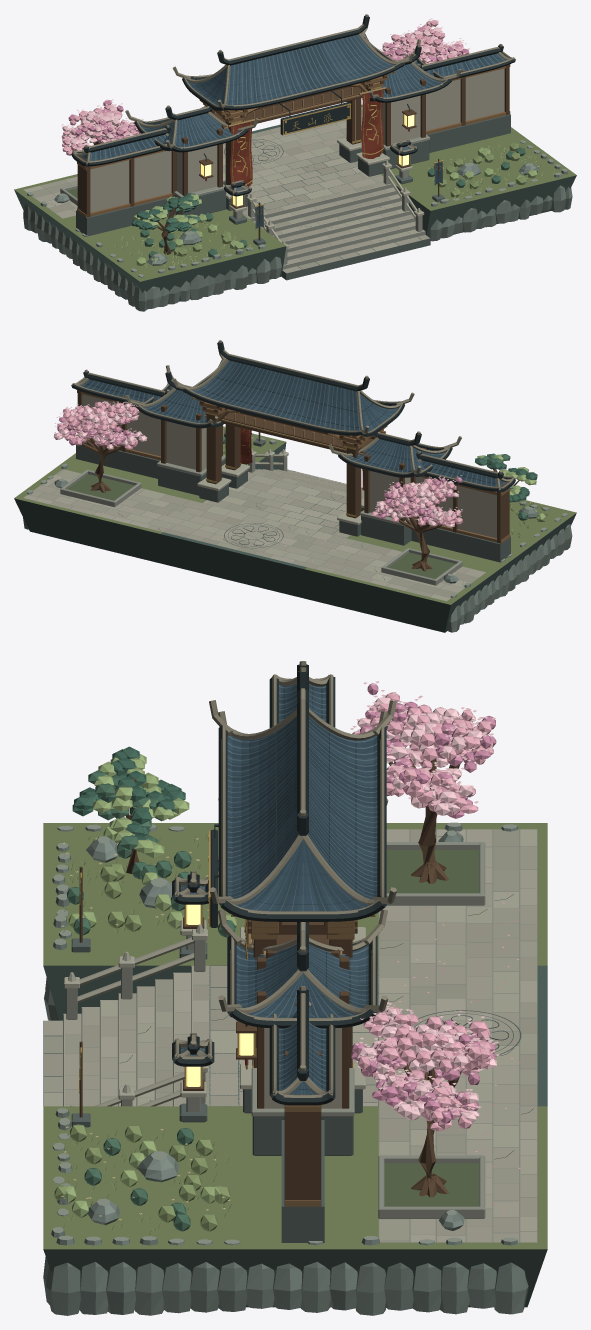
File: gate.glb
3 views of the same model, one above another, from view 1: azimuth 30°, elevation 25°; view 2: azimuth 150°, elevation 25°; view 3: azimuth 270°, elevation 25° (orthographic). The views are drawn at different scales.
Parts seen in each view (by area): view 1: terrain_landform_matte, wall_west_architecture_matte, wall_east_architecture_matte, gate_roof_architecture_matte, rocks_nature_matte, stairs_landform_matte, paving_landform_matte, gate_frame_architecture_matte, garden_nature_foliage, tree_west_nature_blossom, tree_east_nature_blossom, tree_front_nature_foliage (+8 smaller); view 2: terrain_landform_matte, paving_landform_matte, wall_west_architecture_matte, gate_roof_architecture_matte, wall_east_architecture_matte, gate_frame_architecture_matte, rocks_nature_matte, garden_nature_matte, tree_east_nature_blossom, tree_west_nature_blossom, stairs_landform_matte, tree_front_nature_foliage (+5 smaller); view 3: terrain_landform_matte, paving_landform_matte, gate_roof_architecture_matte, rocks_nature_matte, wall_east_architecture_matte, stairs_landform_matte, garden_nature_matte, tree_east_nature_blossom, tree_west_nature_blossom, garden_nature_foliage, tree_front_nature_foliage, gate_frame_architecture_matte (+9 smaller).
Boxes of the visible parts, bbox=[...] form: terrain_landform_matte: bbox=[14, 104, 576, 309]; wall_west_architecture_matte: bbox=[71, 105, 258, 236]; wall_east_architecture_matte: bbox=[361, 39, 515, 168]; gate_roof_architecture_matte: bbox=[172, 14, 414, 113]; rocks_nature_matte: bbox=[23, 140, 572, 311]; stairs_landform_matte: bbox=[245, 182, 430, 280]; paving_landform_matte: bbox=[23, 107, 383, 218]; gate_frame_architecture_matte: bbox=[199, 72, 390, 210]; garden_nature_foliage: bbox=[114, 142, 554, 269]; tree_west_nature_blossom: bbox=[61, 99, 143, 155]; tree_east_nature_blossom: bbox=[379, 18, 469, 64]; tree_front_nature_foliage: bbox=[131, 193, 201, 231]; terrain_landform_matte: bbox=[14, 426, 576, 632]; paving_landform_matte: bbox=[23, 469, 485, 601]; wall_west_architecture_matte: bbox=[328, 431, 515, 562]; gate_roof_architecture_matte: bbox=[173, 340, 414, 439]; wall_east_architecture_matte: bbox=[71, 365, 225, 495]; gate_frame_architecture_matte: bbox=[196, 398, 387, 536]; rocks_nature_matte: bbox=[23, 431, 572, 632]; garden_nature_matte: bbox=[60, 427, 541, 585]; tree_east_nature_blossom: bbox=[54, 401, 147, 449]; tree_west_nature_blossom: bbox=[371, 475, 462, 527]; stairs_landform_matte: bbox=[248, 469, 364, 499]; tree_front_nature_foliage: bbox=[475, 453, 537, 502]; terrain_landform_matte: bbox=[43, 823, 547, 1307]; paving_landform_matte: bbox=[209, 829, 537, 1242]; gate_roof_architecture_matte: bbox=[209, 667, 397, 921]; rocks_nature_matte: bbox=[43, 822, 528, 1315]; wall_east_architecture_matte: bbox=[217, 909, 388, 1242]; stairs_landform_matte: bbox=[43, 965, 209, 1106]; garden_nature_matte: bbox=[61, 838, 485, 1220]; tree_east_nature_blossom: bbox=[351, 1002, 499, 1131]; tree_west_nature_blossom: bbox=[350, 681, 496, 818]; garden_nature_foliage: bbox=[54, 826, 236, 1234]; tree_front_nature_foliage: bbox=[72, 746, 189, 858]; gate_frame_architecture_matte: bbox=[240, 920, 365, 1113].
Size of the model in its own units: 20 by 8 by 10.
